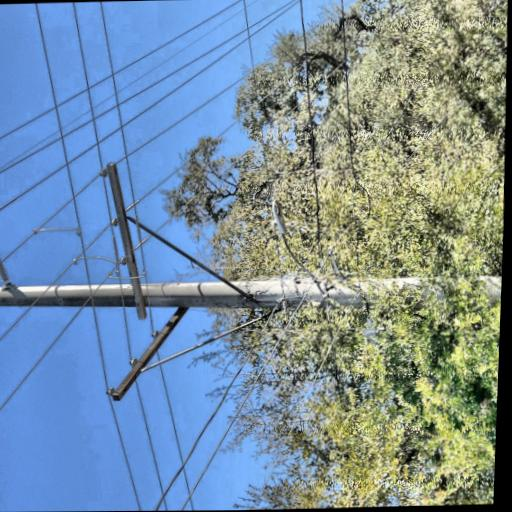pole: (46, 1, 122, 512)
